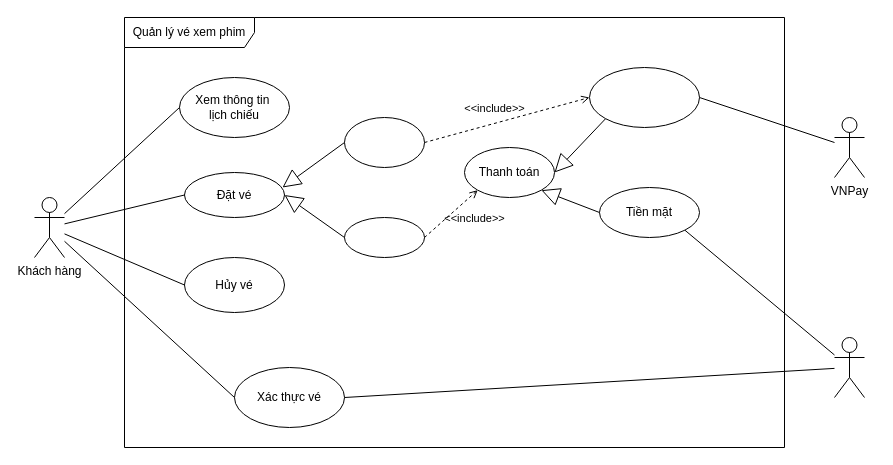
The diagram is 893 pixels wide and 465 high, and some of its shapes have lost their labels. Here are the shapes that lost their labels. From the top down, the centre of each, then its label:
(x=644, y=97): Internet Banking
(x=384, y=142): Online
(x=384, y=237): Offline
(x=849, y=367): Nhân viên
